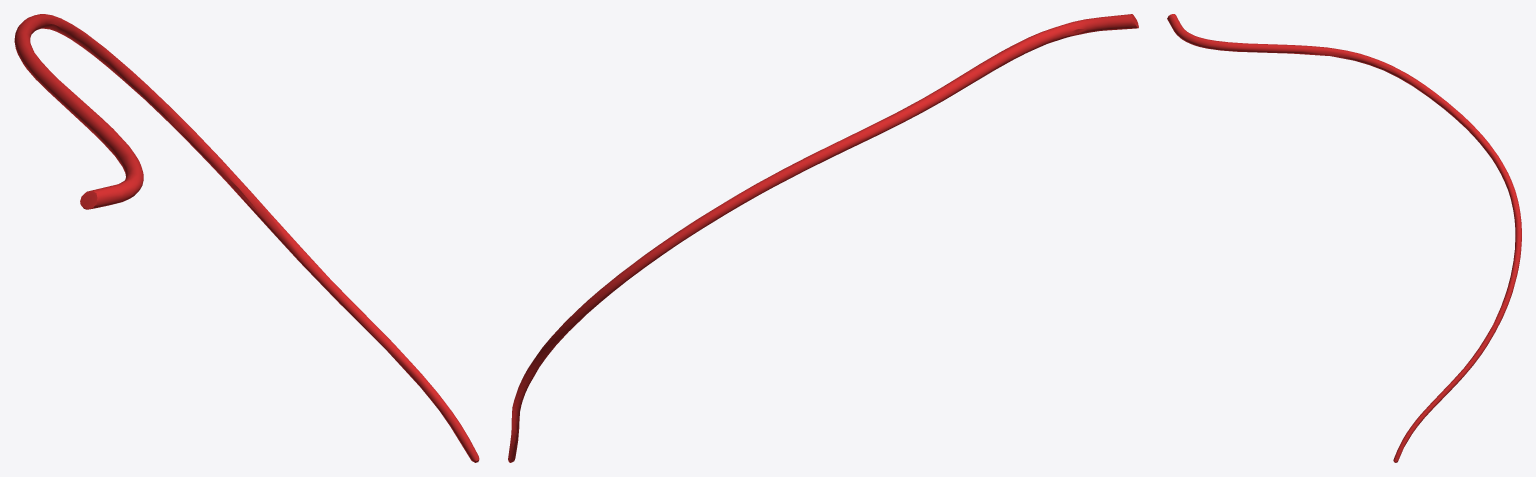
File: arteries.back.glb
The picture shows the model from 3 angles, left to right: view 1: azimuth 30°, elevation 25°; view 2: azimuth 150°, elevation 25°; view 3: azimuth 270°, elevation 25°; orthographic projection. The views are drawn at different scales.
Visible parts, largest first — view 1: left_subcostal_artery; view 2: left_subcostal_artery; view 3: left_subcostal_artery.
Boxes of the visible parts, <box> form: left_subcostal_artery: <box>14,14,479,462</box>; left_subcostal_artery: <box>508,14,1138,462</box>; left_subcostal_artery: <box>1167,14,1521,462</box>.
Size of the model in its own units: 0.0712 by 0.064 by 0.0692.
